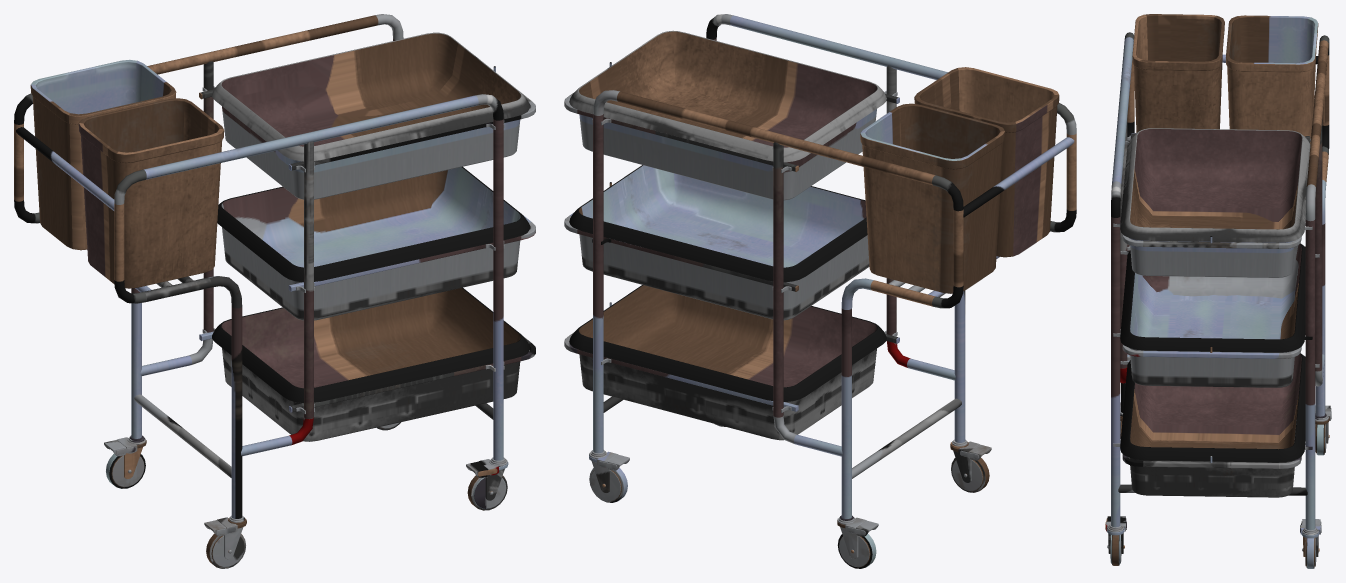
3 views of the same model, side by side, from view 1: azimuth 30°, elevation 25°; view 2: azimuth 150°, elevation 25°; view 3: azimuth 270°, elevation 25° (orthographic). The views are drawn at different scales.
Visible parts, largest first — view 1: Bacs_low, Poubelles_low, Armature_low_lambert1_0, EmplacementsBacs_low, Liens_low, Roues_low, AttachesRoues_low, Pneus_low; view 2: Bacs_low, Poubelles_low, Armature_low_lambert1_0, EmplacementsBacs_low, Liens_low, Roues_low, AttachesRoues_low, Pneus_low; view 3: Bacs_low, Poubelles_low, Armature_low_lambert1_0, EmplacementsBacs_low, Pneus_low, BasesRoues_low, Roues_low, AttachesEmplacements_low, Liens_low, AttachesRoues_low.
Boxes of the visible parts, x1,y1,x2,y2 form: Bacs_low: (212,32,529,441); Poubelles_low: (30,59,224,288); Armature_low_lambert1_0: (14,14,503,518); EmplacementsBacs_low: (200,66,535,412); Liens_low: (16,127,493,477); Roues_low: (111,422,506,567); AttachesRoues_low: (124,447,504,559); Pneus_low: (106,422,507,568); Bacs_low: (569,30,886,440); Poubelles_low: (860,67,1059,293); Armature_low_lambert1_0: (593,14,1076,518); EmplacementsBacs_low: (564,62,898,411); Liens_low: (603,137,1074,478); Roues_low: (590,460,983,567); AttachesRoues_low: (591,451,971,558); Pneus_low: (589,424,989,568); Bacs_low: (1120,128,1310,497); Poubelles_low: (1132,14,1318,143); Armature_low_lambert1_0: (1111,32,1329,530); EmplacementsBacs_low: (1122,133,1310,468); Pneus_low: (1111,421,1324,568); BasesRoues_low: (1106,410,1329,538); Roues_low: (1110,421,1326,566); AttachesEmplacements_low: (1113,135,1319,449); Liens_low: (1118,54,1318,495); AttachesRoues_low: (1108,421,1328,556).
Bounding box in the file's own units: 92.44 × 88.77 × 46.46.
